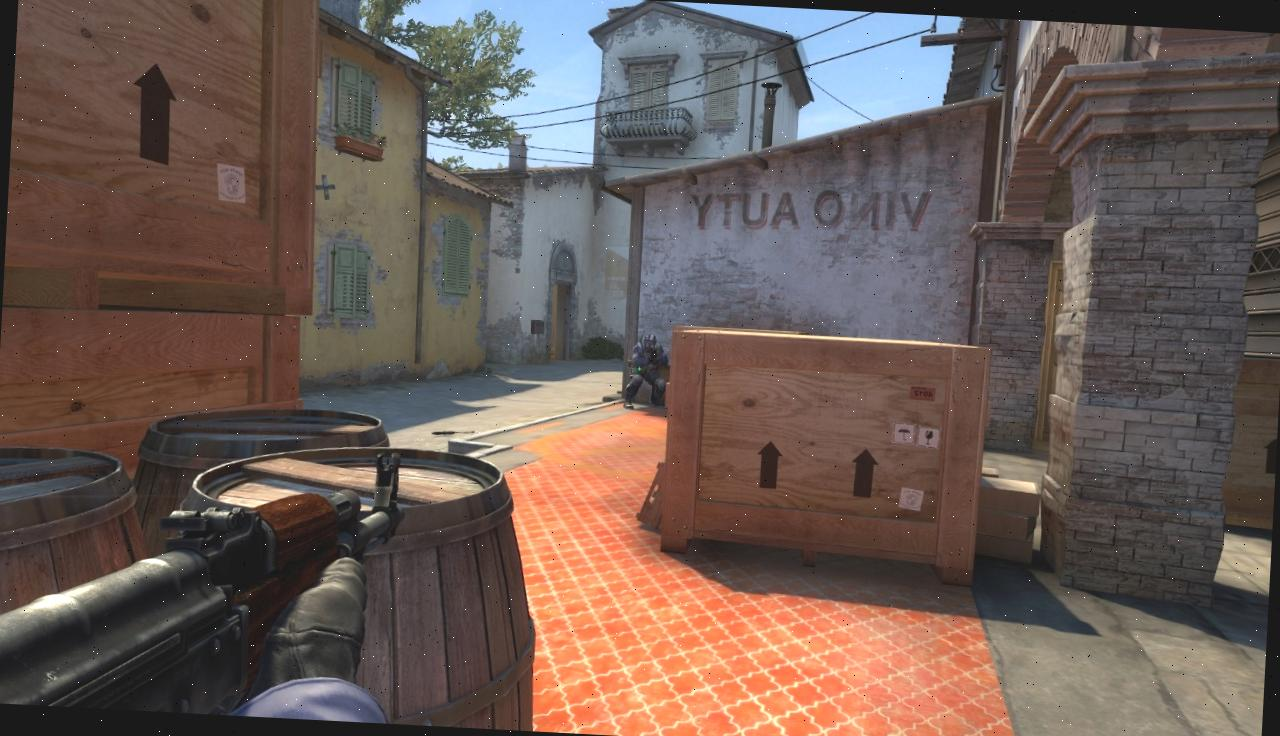ct: (623, 331, 671, 412)
cthead: (642, 332, 658, 354)
rifle: (0, 426, 406, 723)
